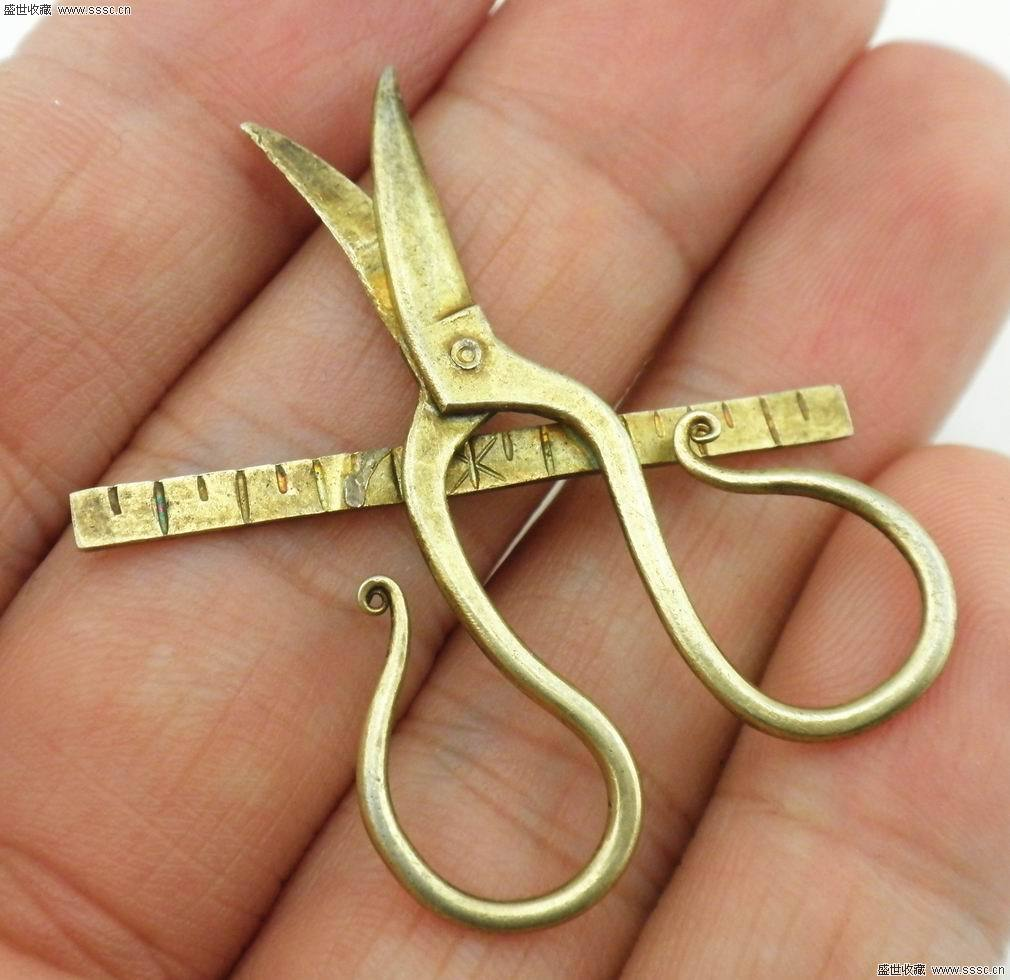scissor: (184, 53, 943, 910)
